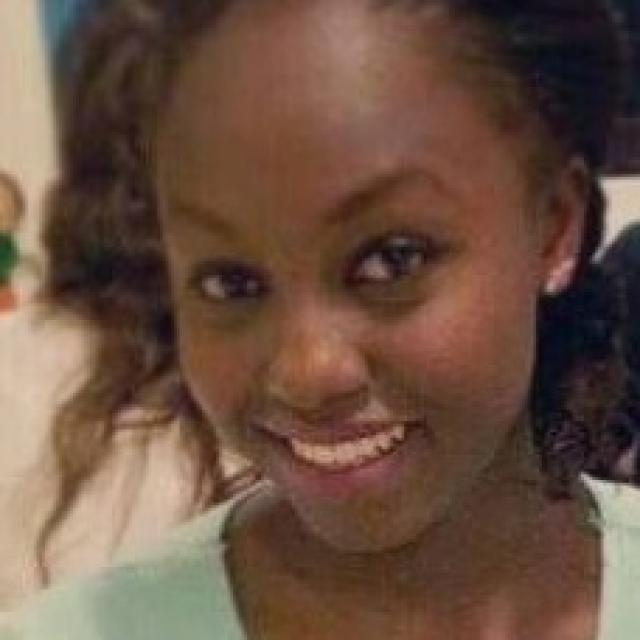Normal: (148, 3, 541, 548)
